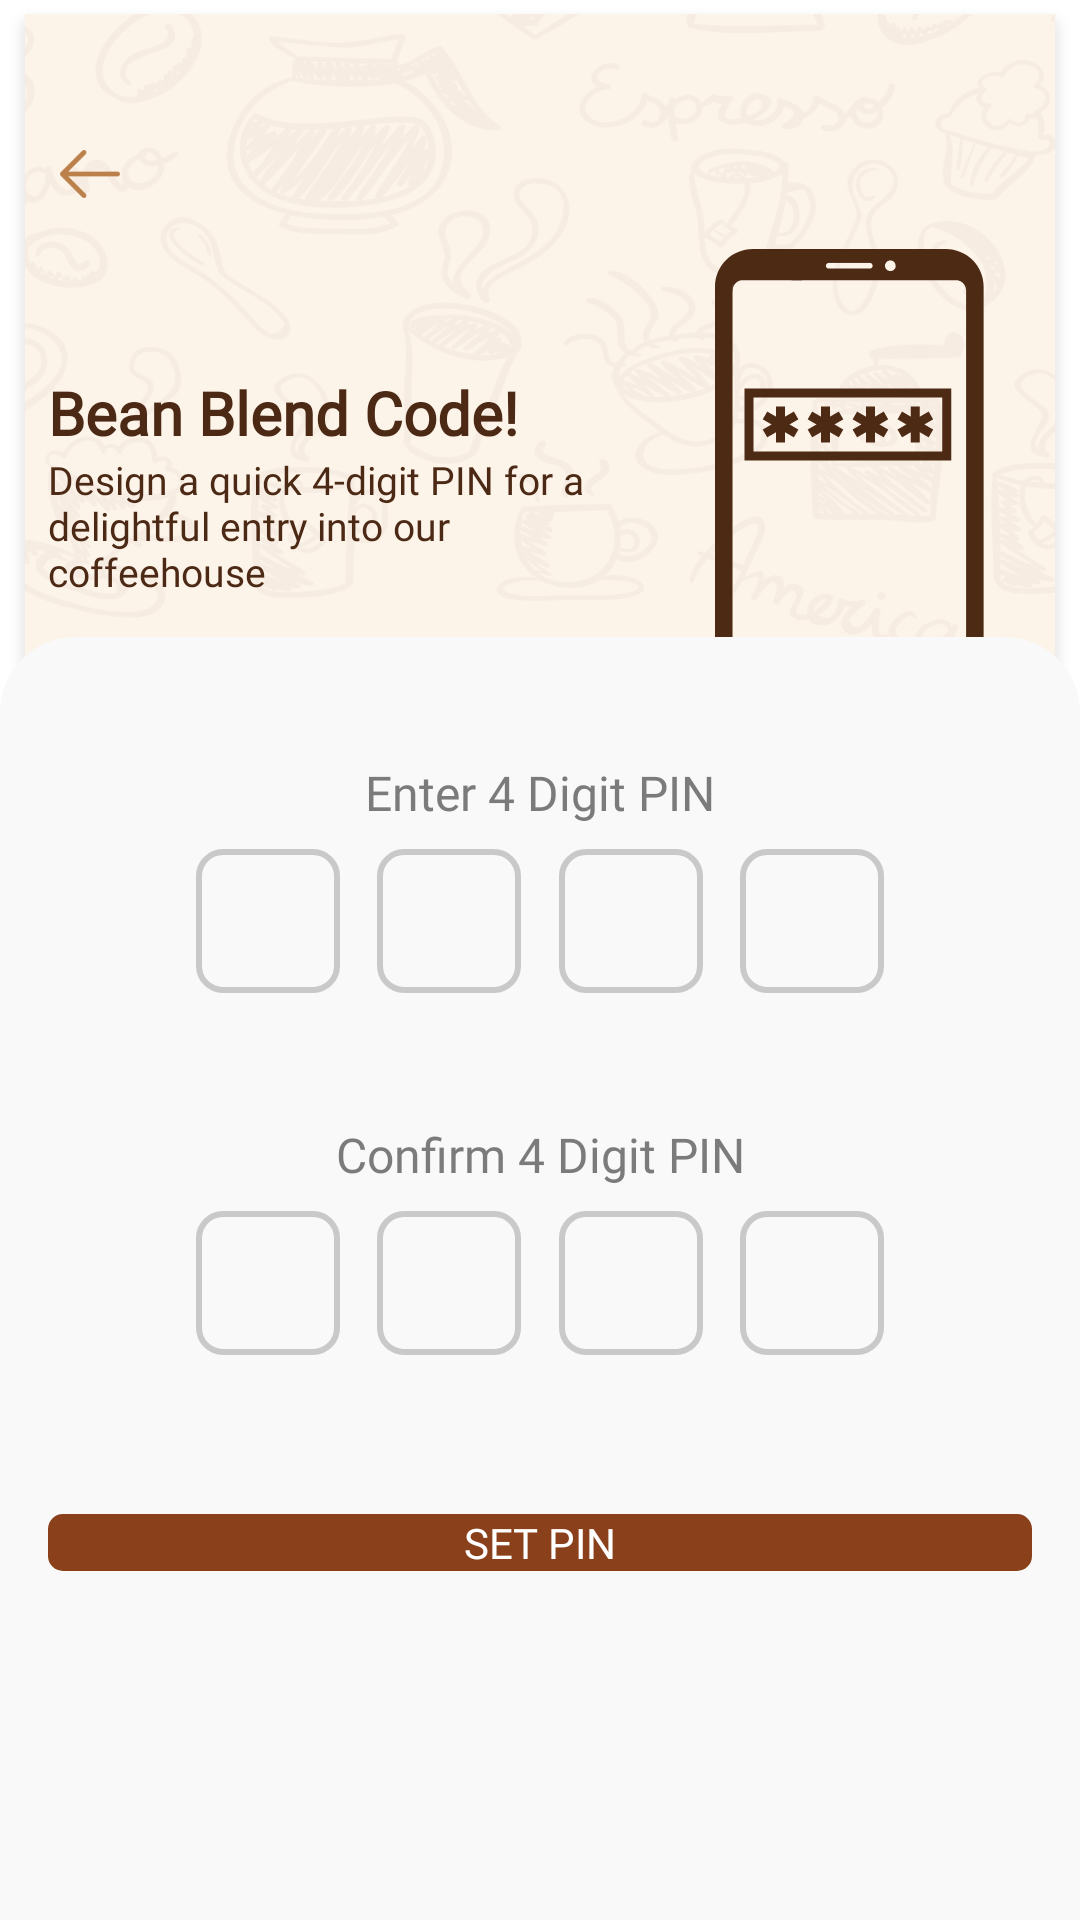

Icon click points for this 1080*1920 phone screenshot, format (x=x, y=y):
back: (x=90, y=174)
